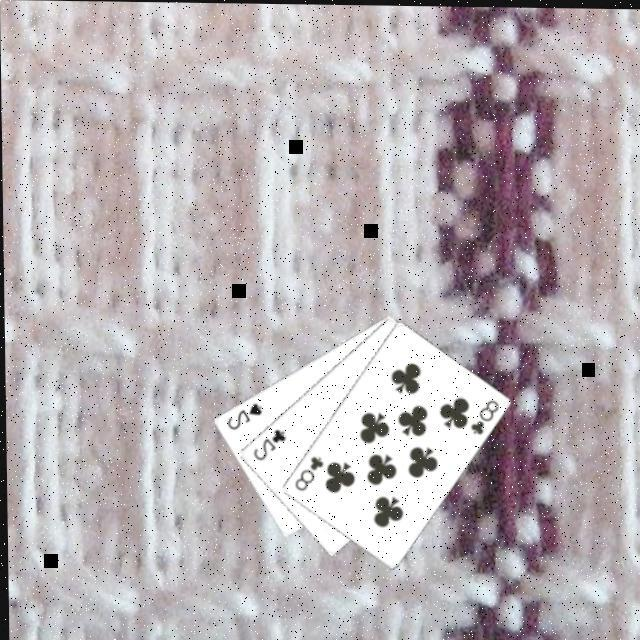2C: (250, 424, 289, 462)
2S: (224, 398, 266, 432)
8C: (292, 450, 326, 492), (468, 394, 502, 436)
